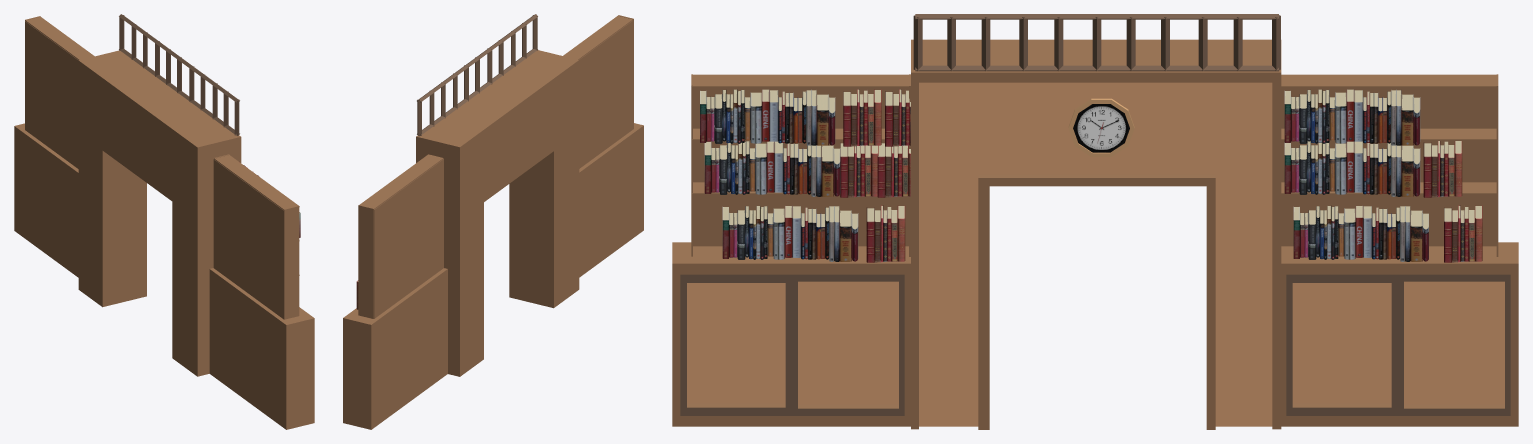
File: Gate.fbx
The picture shows the model from 3 angles, left to right: view 1: azimuth 30°, elevation 25°; view 2: azimuth 150°, elevation 25°; view 3: azimuth 270°, elevation 25°; orthographic projection. The views are drawn at different scales.
Parts seen in each view (by area): view 1: group8_Componen25; view 2: group8_Componen25; view 3: group8_Componen25.
Part boxes in pixels (x1,y1,x2,y2): group8_Componen25: (14,14,314,429); group8_Componen25: (343,14,643,429); group8_Componen25: (672,14,1518,429).
Size of the model in its own units: 3.69 by 21.04 by 39.01.
Materials: 6 (3 with a texture image).
